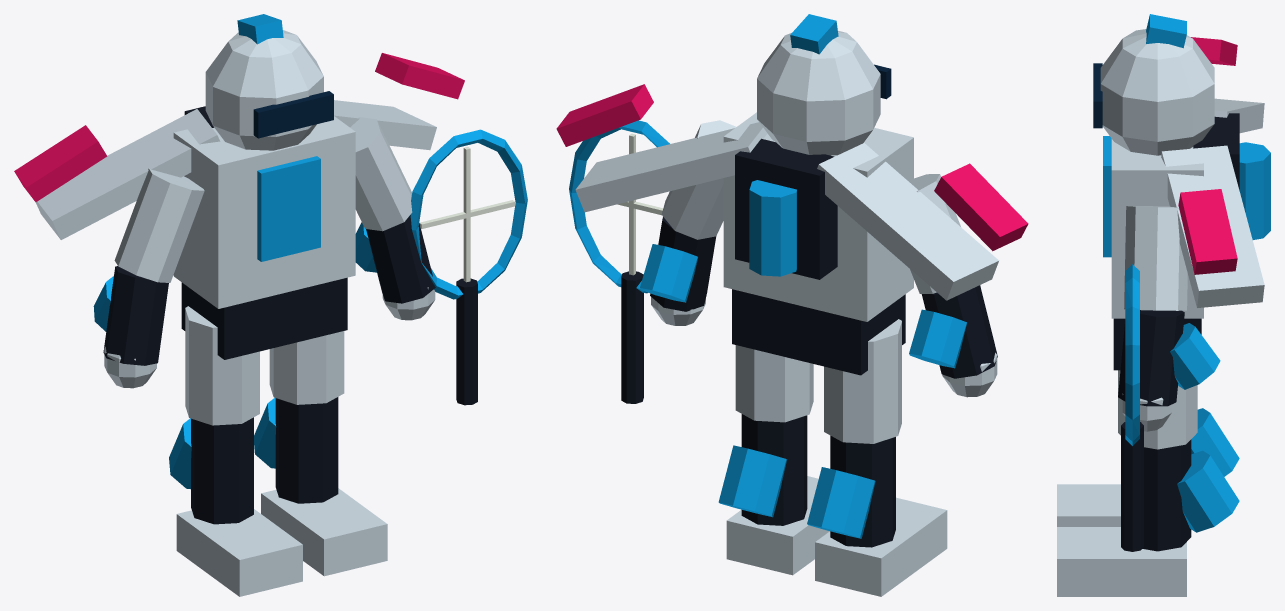
The model's file is Zephyr_Jet_Model_v1.obj.
3 renders of one model, left to right at view 1: azimuth 30°, elevation 25°; view 2: azimuth 150°, elevation 25°; view 3: azimuth 270°, elevation 25°, orthographic. The views are drawn at different scales.
Parts seen in each view (by area): view 1: Torso, Head, Left_Wing, Pelvis, L_Shoe, R_Shoe, L_Upper_Arm, R_Shin, L_Thigh, L_Shin, Chest_Accent, L_Forearm (+17 smaller); view 2: Torso, Head, Left_Wing, Pelvis, Backpack, Right_Wing, L_Shoe, L_Thigh, R_Thigh, R_Shoe, R_Shin, L_Shin (+17 smaller); view 3: Head, R_Shoe, Right_Wing, Torso, R_Upper_Arm, R_Shin, R_Forearm, Right_Wing_Tip, R_Calf_Nozzle, L_Shoe, Jet_Core, Racket_Handle (+12 smaller).
Boxes of the visible parts, <box> form: Torso: <box>173,116,355,308</box>; Head: <box>205,30,323,150</box>; Left_Wing: <box>36,109,220,239</box>; Pelvis: <box>181,277,347,359</box>; L_Shoe: <box>176,509,302,596</box>; R_Shoe: <box>261,488,387,576</box>; L_Upper_Arm: <box>114,168,204,282</box>; R_Shin: <box>275,397,338,503</box>; L_Thigh: <box>185,306,259,425</box>; L_Shin: <box>191,417,253,524</box>; Chest_Accent: <box>257,156,320,261</box>; L_Forearm: <box>103,266,168,365</box>; Torso: <box>723,112,913,321</box>; Head: <box>757,31,880,155</box>; Left_Wing: <box>817,143,998,300</box>; Pelvis: <box>732,289,905,375</box>; Backpack: <box>735,138,837,279</box>; Right_Wing: <box>575,122,767,212</box>; L_Shoe: <box>815,497,947,596</box>; L_Thigh: <box>824,319,901,443</box>; R_Thigh: <box>735,345,813,422</box>; R_Shoe: <box>726,476,829,575</box>; R_Shin: <box>741,414,807,525</box>; L_Shin: <box>830,435,895,547</box>; Head: <box>1100,29,1214,155</box>; R_Shoe: <box>1057,527,1186,596</box>; Right_Wing: <box>1161,145,1264,307</box>; Torso: <box>1111,139,1203,318</box>; R_Upper_Arm: <box>1124,206,1187,310</box>; R_Shin: <box>1142,439,1191,551</box>; R_Forearm: <box>1118,310,1184,406</box>; Right_Wing_Tip: <box>1178,189,1237,274</box>; R_Calf_Nozzle: <box>1177,450,1239,532</box>; L_Shoe: <box>1057,484,1120,526</box>; Jet_Core: <box>1239,142,1270,239</box>; Racket_Handle: <box>1121,422,1143,551</box>.
Bounding box in the file's own units: 2.67 × 2.84 × 1.02.
